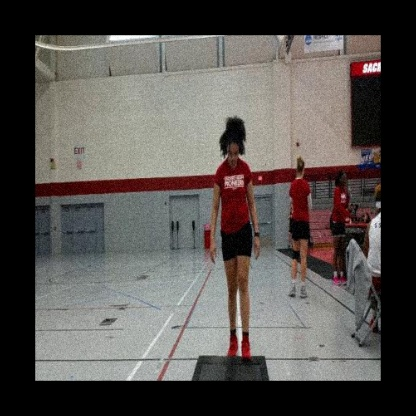lateral_flexion_right: (208, 114, 260, 366)
stance_width_narrow: (208, 155, 261, 366)
